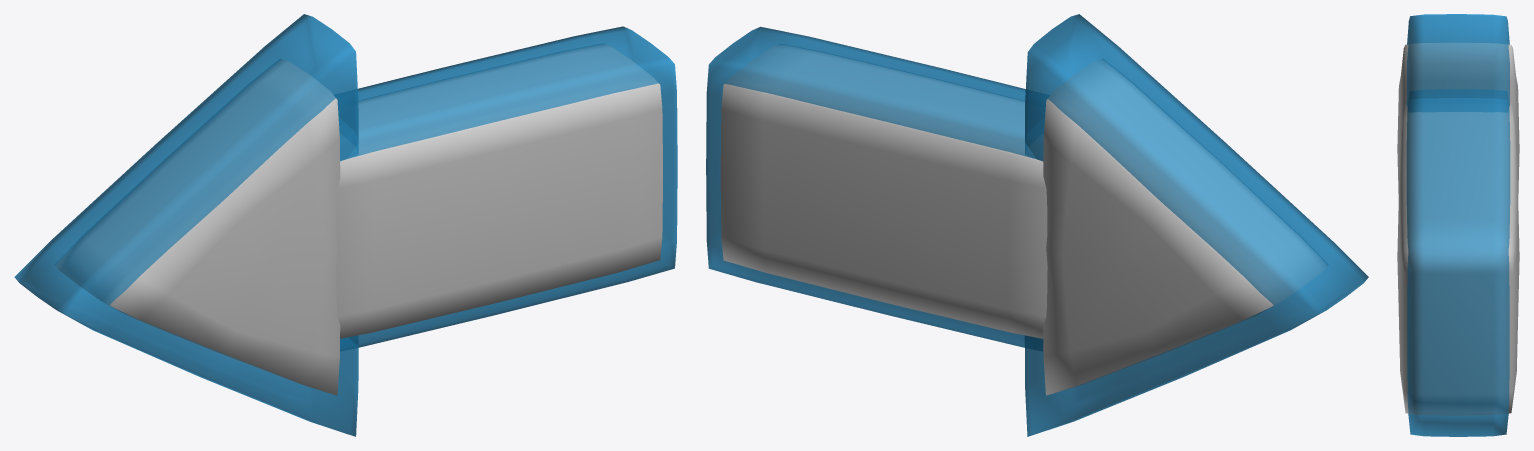
The model's file is 箭头改版(1).dae.
The picture shows the model from 3 angles, left to right: view 1: azimuth 30°, elevation 25°; view 2: azimuth 150°, elevation 25°; view 3: azimuth 270°, elevation 25°; orthographic projection. The views are drawn at different scales.
Parts seen in each view (by area): view 1: polySurface6_ncl1_1; view 2: polySurface6_ncl1_1; view 3: polySurface6_ncl1_1.
Boxes of the visible parts, bbox=[...] form: polySurface6_ncl1_1: bbox=[14, 14, 677, 436]; polySurface6_ncl1_1: bbox=[706, 14, 1368, 436]; polySurface6_ncl1_1: bbox=[1397, 14, 1519, 436].
Size of the model in its own units: 3.58 by 2.17 by 0.66.
